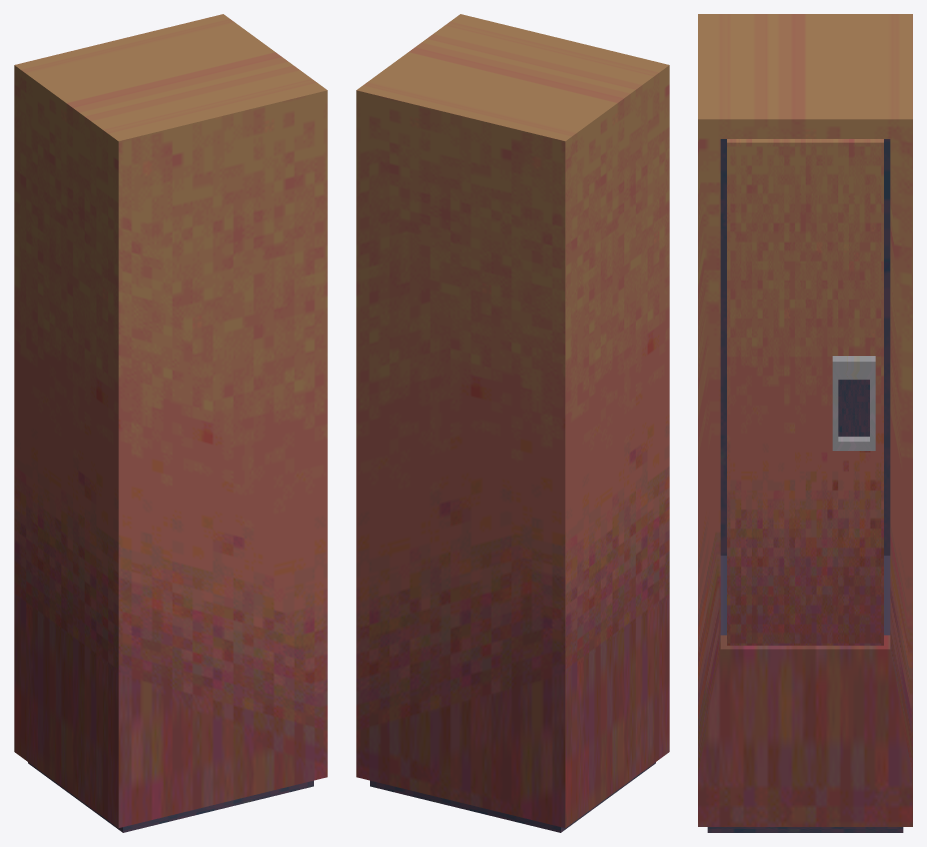
File: Locker.fbx
3 renders of one model, left to right at view 1: azimuth 30°, elevation 25°; view 2: azimuth 150°, elevation 25°; view 3: azimuth 270°, elevation 25°, orthographic. The views are drawn at different scales.
Parts seen in each view (by area): view 1: Cube; view 2: Cube; view 3: Cube.
Part boxes in pixels (x1,y1,x2,y2): Cube: (14,14,327,832); Cube: (356,14,669,832); Cube: (698,14,912,832).
Size of the model in its own units: 1.04 by 3.13 by 0.8484.
Materials: 1 (1 with a texture image).
